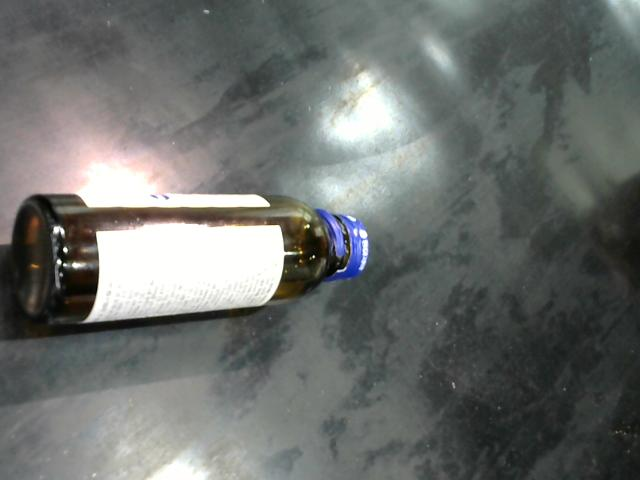glass: (10, 193, 370, 328)
